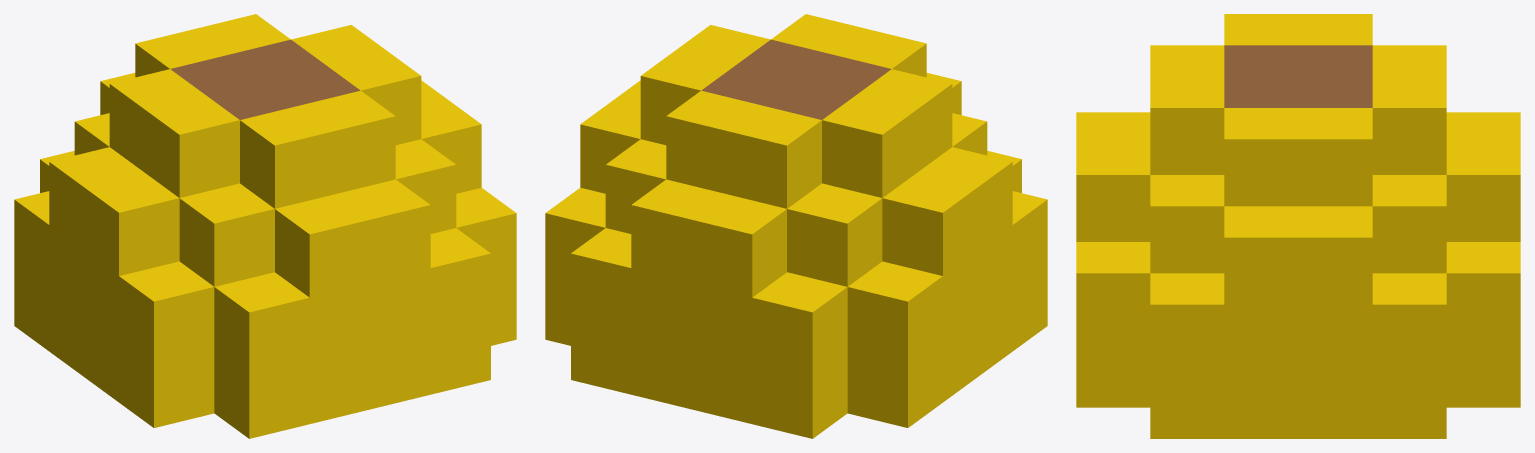
File: BombGoldWick.obj
3 renders of one model, left to right at view 1: azimuth 30°, elevation 25°; view 2: azimuth 150°, elevation 25°; view 3: azimuth 270°, elevation 25°, orthographic. The views are drawn at different scales.
Size of the model in its own units: 0.6 by 0.4 by 0.6.
Materials: 1 (1 with a texture image).
